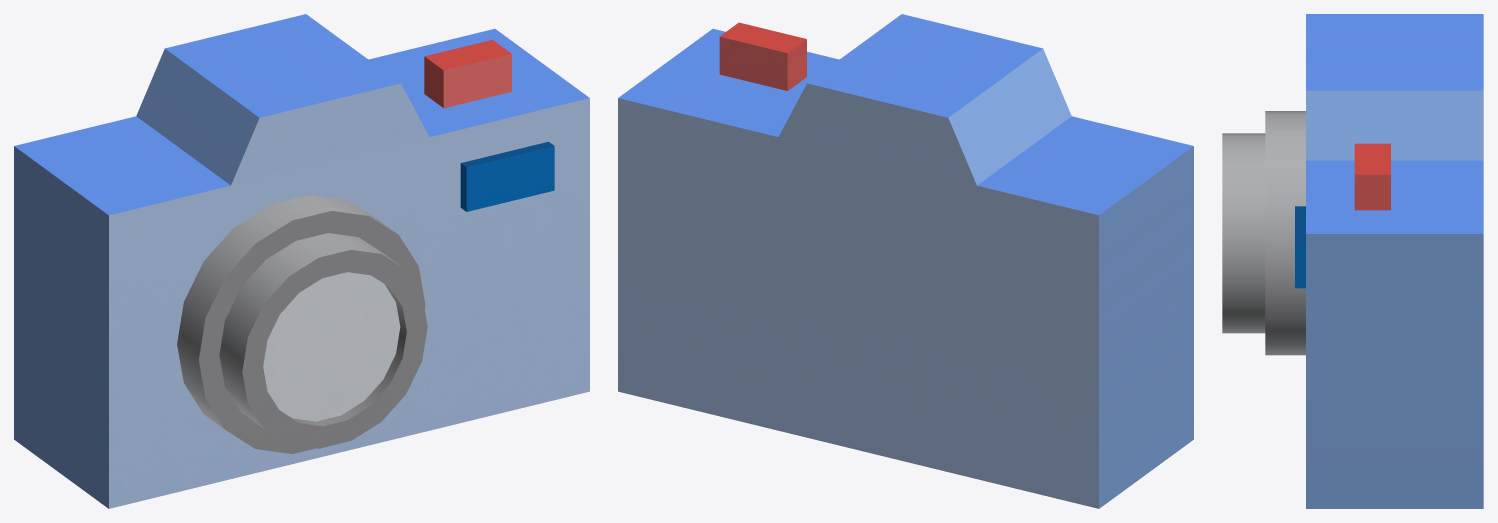
Rendered from SM_Camera.fbx.
The picture shows the model from 3 angles, left to right: view 1: azimuth 30°, elevation 25°; view 2: azimuth 150°, elevation 25°; view 3: azimuth 270°, elevation 25°; orthographic projection. The views are drawn at different scales.
Visible parts, largest first — view 1: SM_Camera; view 2: SM_Camera; view 3: SM_Camera.
Part boxes in pixels (x1,y1,x2,y2): SM_Camera: [14, 14, 589, 508]; SM_Camera: [618, 14, 1193, 508]; SM_Camera: [1222, 14, 1483, 508].
Bounding box in the file's own units: 23.5 × 16.54 × 11.8.
